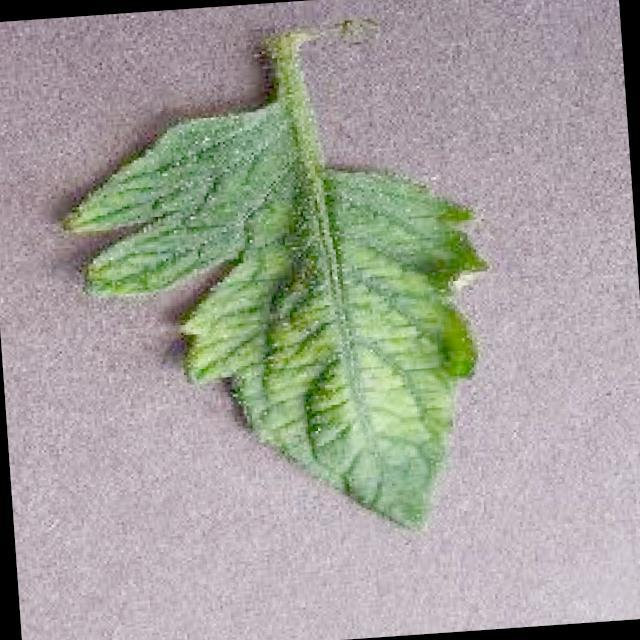Tomato mosaic virus leaf: (48, 83, 510, 561)
